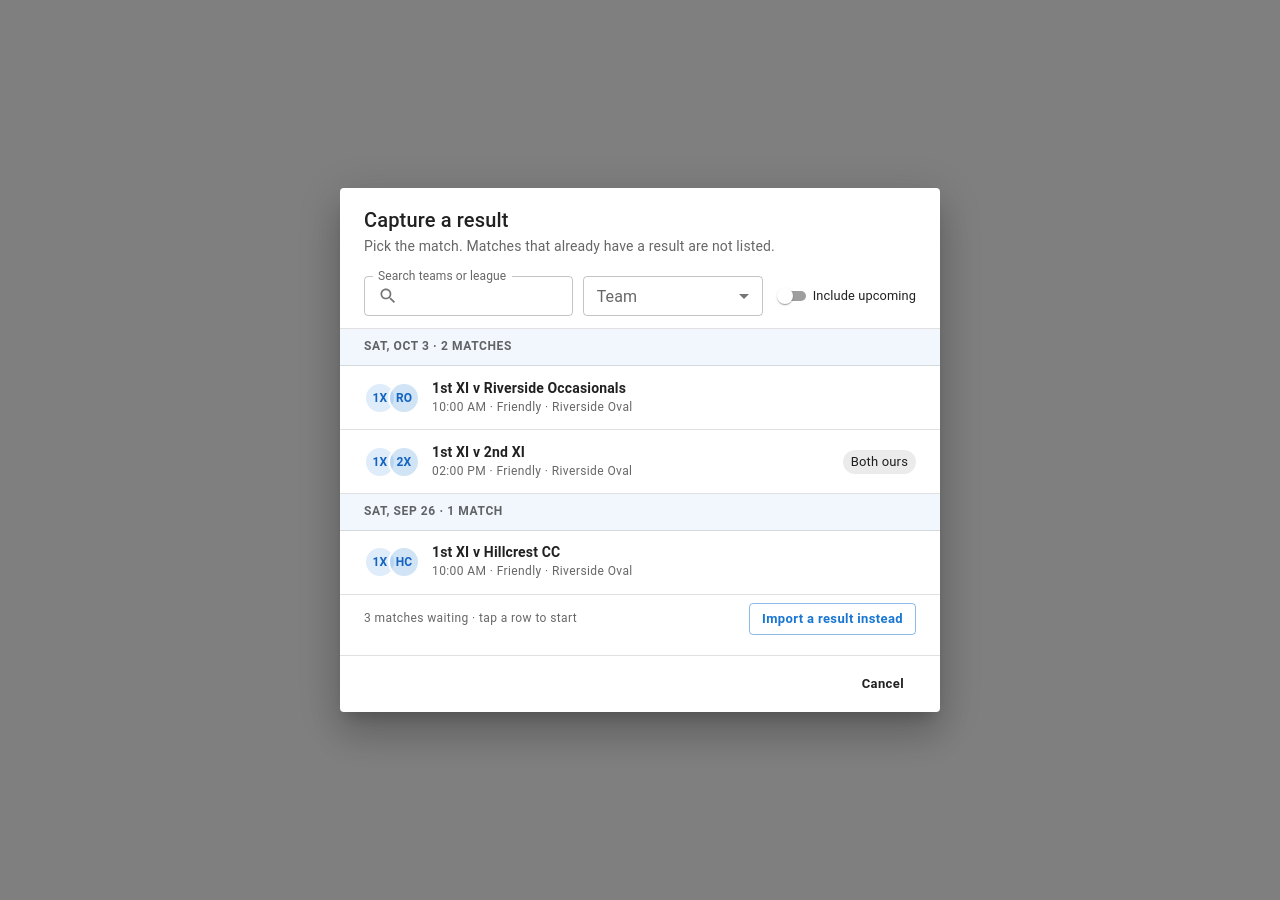
Test: CaptureResultDialog › says every match has a result when upcoming are included and nothing is left
What coordinates should you click on to do the following:
click the checkbox labelled "Include upcoming"
I would click on:
 (846, 296)
Its box is [777, 288, 916, 304].
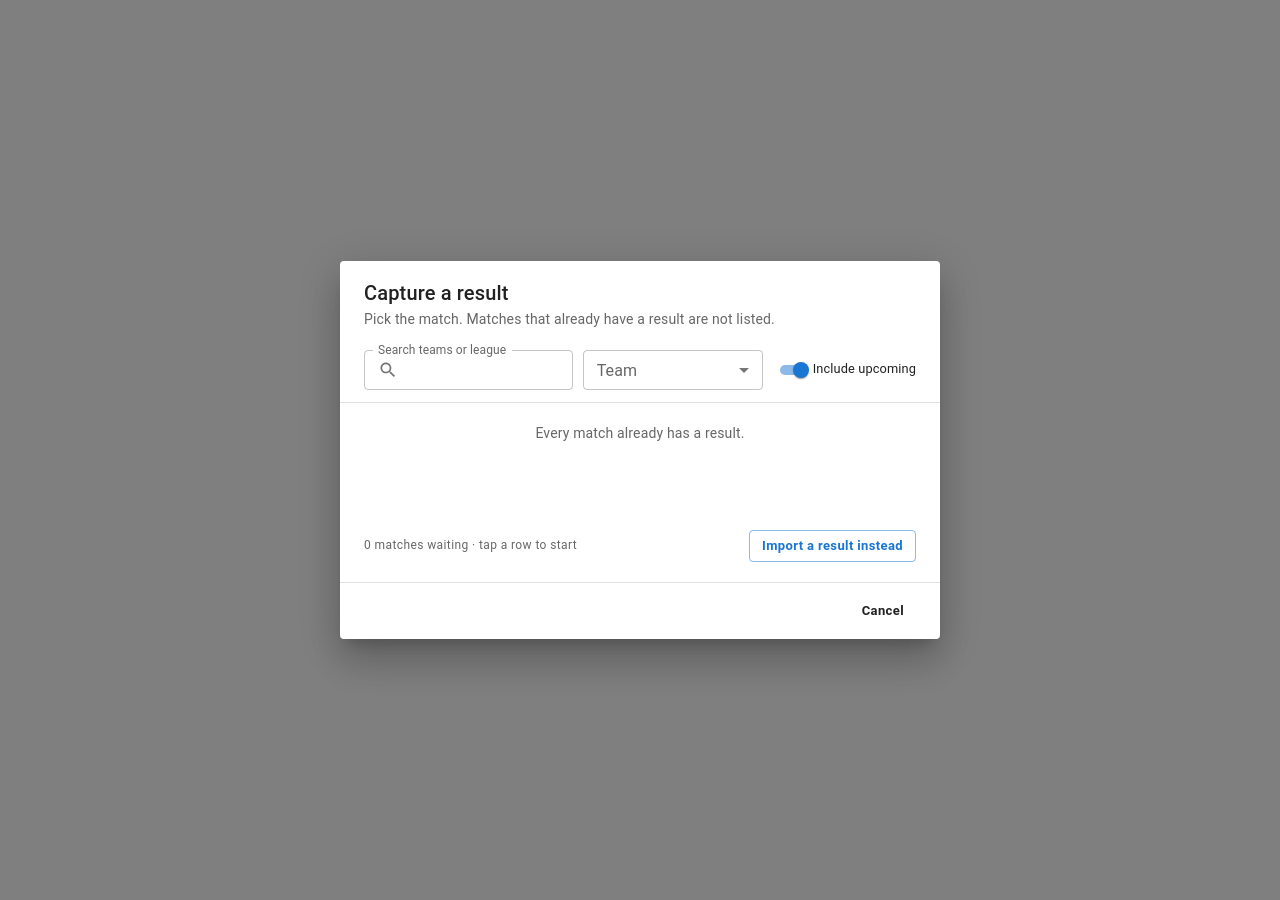
expect the text "Every match already has a result." is shown: met, box [535, 424, 745, 440]
